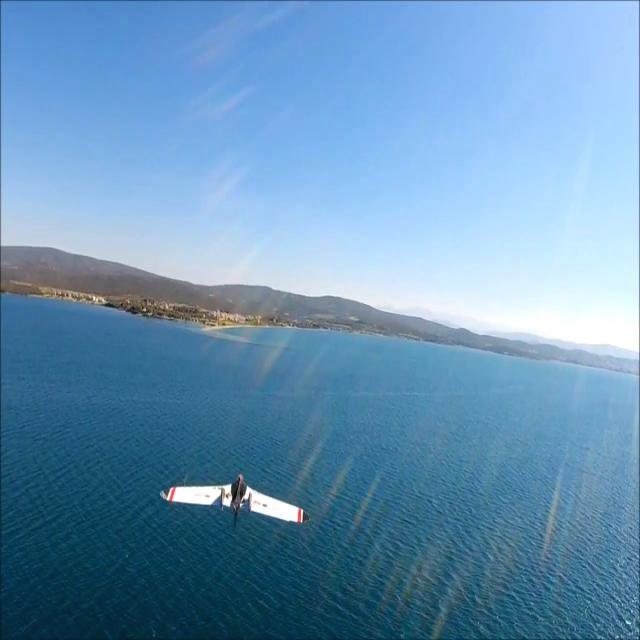iha: (158, 484, 314, 517)
